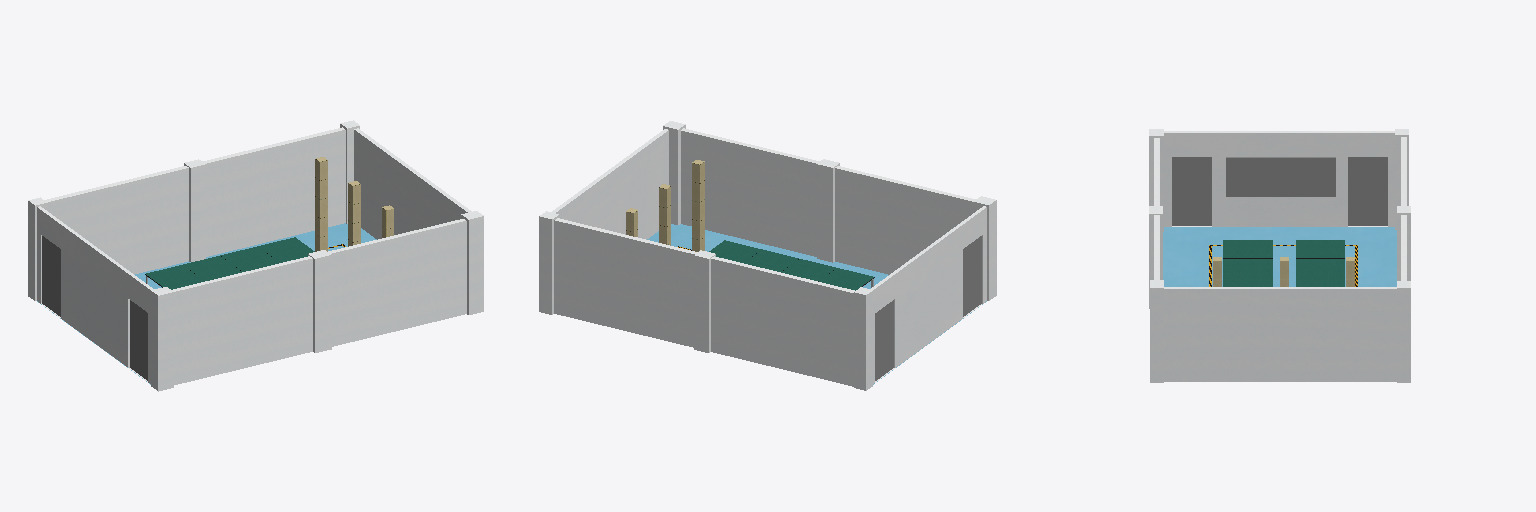
3 renders of one model, left to right at view 1: azimuth 30°, elevation 25°; view 2: azimuth 150°, elevation 25°; view 3: azimuth 270°, elevation 25°, orthographic.
Visible parts, largest first — view 1: Box027; view 2: Box027; view 3: Box027.
Part boxes in pixels (left/top/right/bottom): Box027: left=28, top=120, right=483, bottom=391; Box027: left=539, top=121, right=996, bottom=390; Box027: left=1149, top=129, right=1410, bottom=382.
Size of the model in its own units: 12.57 by 3.53 by 8.76.
10 materials, 8 textured.